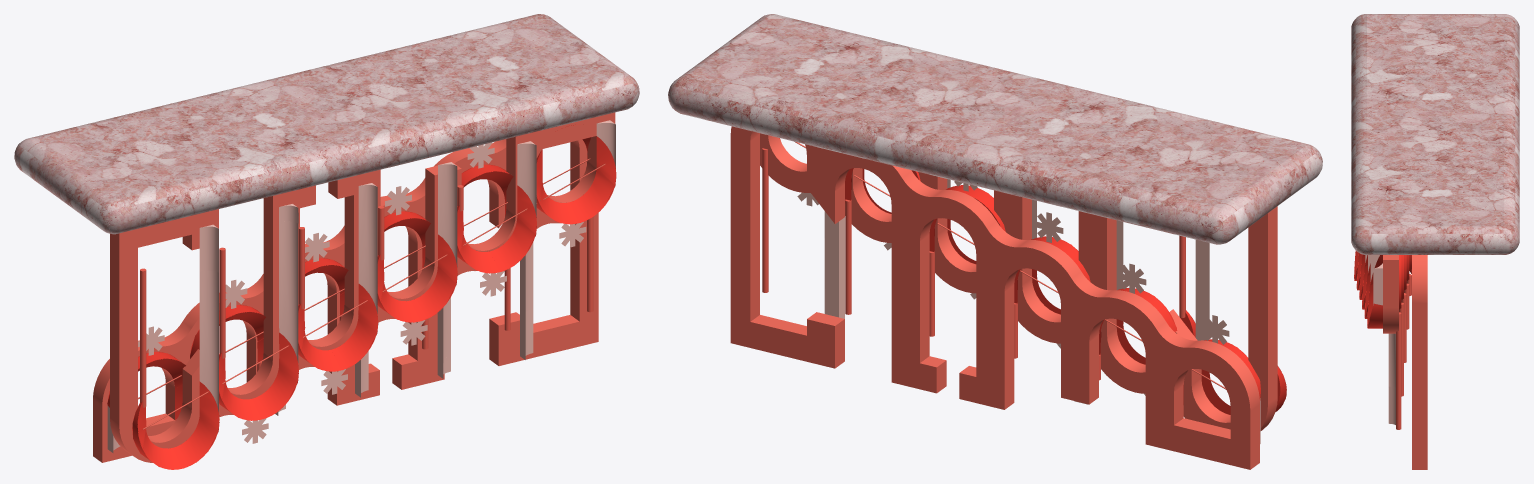
File: 2070s-dj-table-RED2-v72.glb
3 views of the same model, side by side, from view 1: azimuth 30°, elevation 25°; view 2: azimuth 150°, elevation 25°; view 3: azimuth 270°, elevation 25° (orthographic). The views are drawn at different scales.
Visible parts, largest first — view 1: Box; view 2: Box; view 3: Box.
Part boxes in pixels (x1,y1,x2,y2): Box: (14, 14, 639, 469); Box: (668, 14, 1322, 469); Box: (1351, 14, 1519, 469).
Size of the model in its own units: 1.9 by 0.9668 by 0.6072.
Materials: 1 (1 with a texture image).
